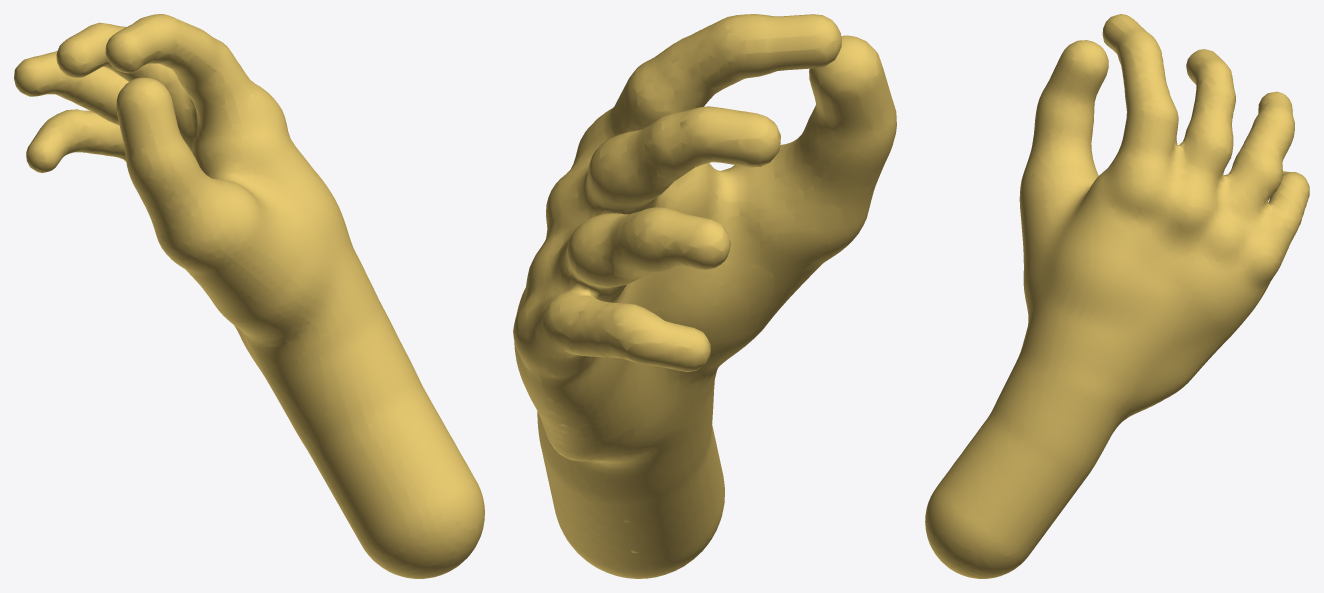
Rendered from Hand.fbx.
3 renders of one model, left to right at view 1: azimuth 30°, elevation 25°; view 2: azimuth 150°, elevation 25°; view 3: azimuth 270°, elevation 25°, orthographic. The views are drawn at different scales.
Visible parts, largest first — view 1: Hand; view 2: Hand; view 3: Hand.
Boxes of the visible parts, <box> form: Hand: <box>14,14,484,578</box>; Hand: <box>513,14,896,578</box>; Hand: <box>925,14,1309,578</box>.
Bounding box in the file's own units: 150 × 256 × 191.
